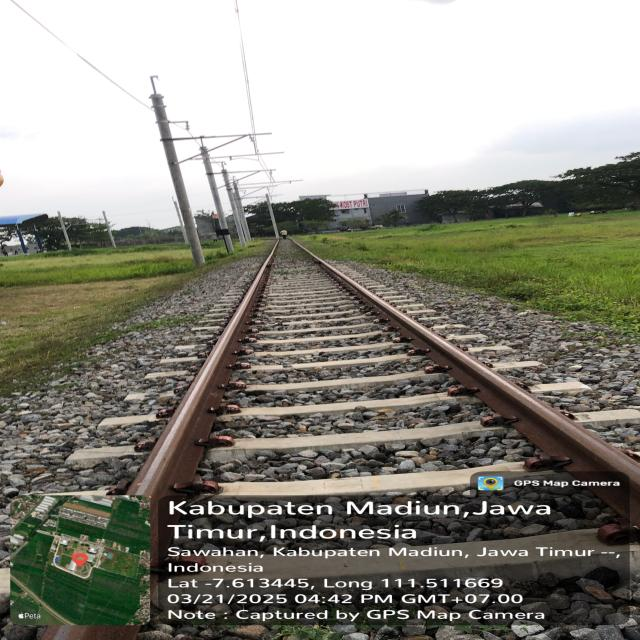rail-detection: (310, 253, 640, 528), (127, 241, 280, 566)
